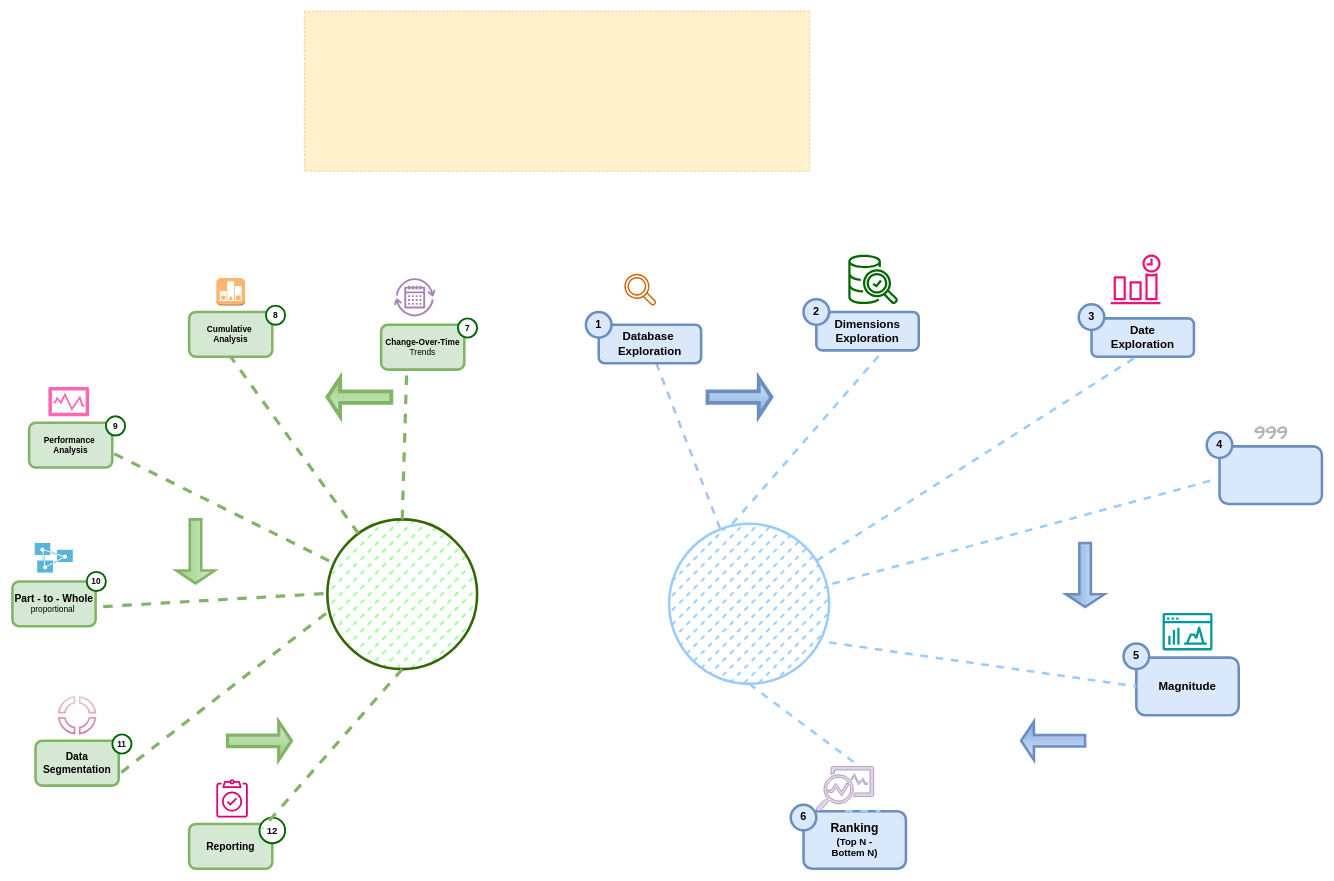
The diagram is 1334 pixels wide and 881 high, and some of its shapes have lost their labels. The centre of each missing label's shape, as x and y in pixels:
Advance Analytics: the point at 402,594
EDA and Advance Data Analysis By Mahdi Dehlaghi: the point at 557,91
Exploratory Data Analysis (EDA): the point at 749,603
Measures Exploration (big numbers): the point at 1270,475
